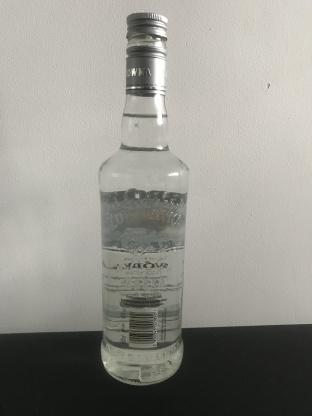nakretka: (124, 11, 168, 96)
